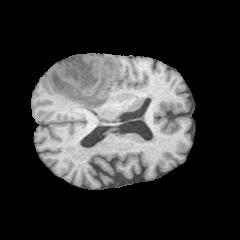glioma: (51, 55, 118, 113)
